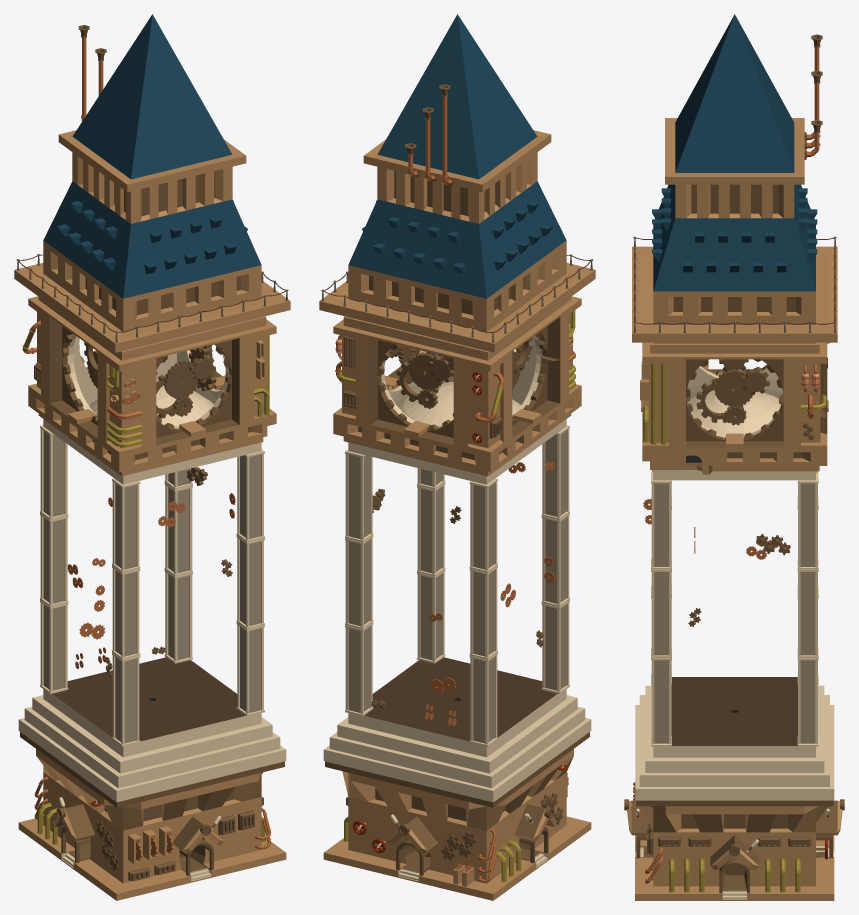
The model's file is MainTower_and_Gears.fbx.
3 renders of one model, left to right at view 1: azimuth 30°, elevation 25°; view 2: azimuth 150°, elevation 25°; view 3: azimuth 270°, elevation 25°, orthographic.
Parts seen in each view (by area): view 1: MainTower, GearBig.001; view 2: MainTower, GearBig.002; view 3: MainTower, GearBig.003, GearDefault.003, GearSimple.003.
Part boxes in pixels (x1=…): MainTower: x1=14, y1=14, x2=290, y2=900; GearBig.001: x1=164, y1=361, x2=198, y2=399; MainTower: x1=319, y1=14, x2=595, y2=900; GearBig.002: x1=408, y1=352, x2=443, y2=390; MainTower: x1=624, y1=14, x2=844, y2=900; GearBig.003: x1=714, y1=369, x2=752, y2=407; GearDefault.003: x1=740, y1=367, x2=769, y2=395; GearSimple.003: x1=696, y1=378, x2=743, y2=422.
Size of the model in its own units: 135 by 573 by 135.
